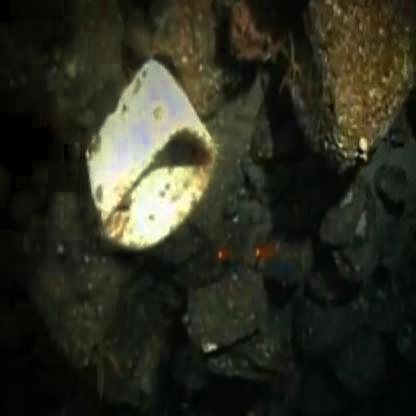plastic: (84, 63, 240, 267)
